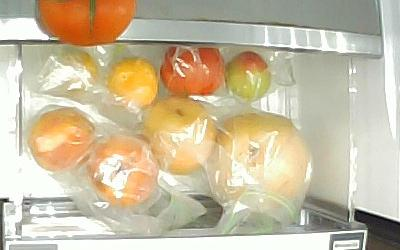peach_vinyl: (85, 133, 157, 206), (28, 106, 95, 172)
pear_vinyl: (216, 111, 307, 202), (141, 94, 216, 174)
tangerine_vinyl: (104, 55, 159, 107), (61, 48, 98, 94)
tomato_vinyl: (158, 43, 224, 96), (223, 49, 271, 100)
